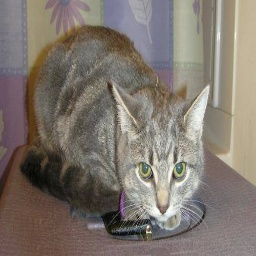cat: (20, 35, 218, 239)
